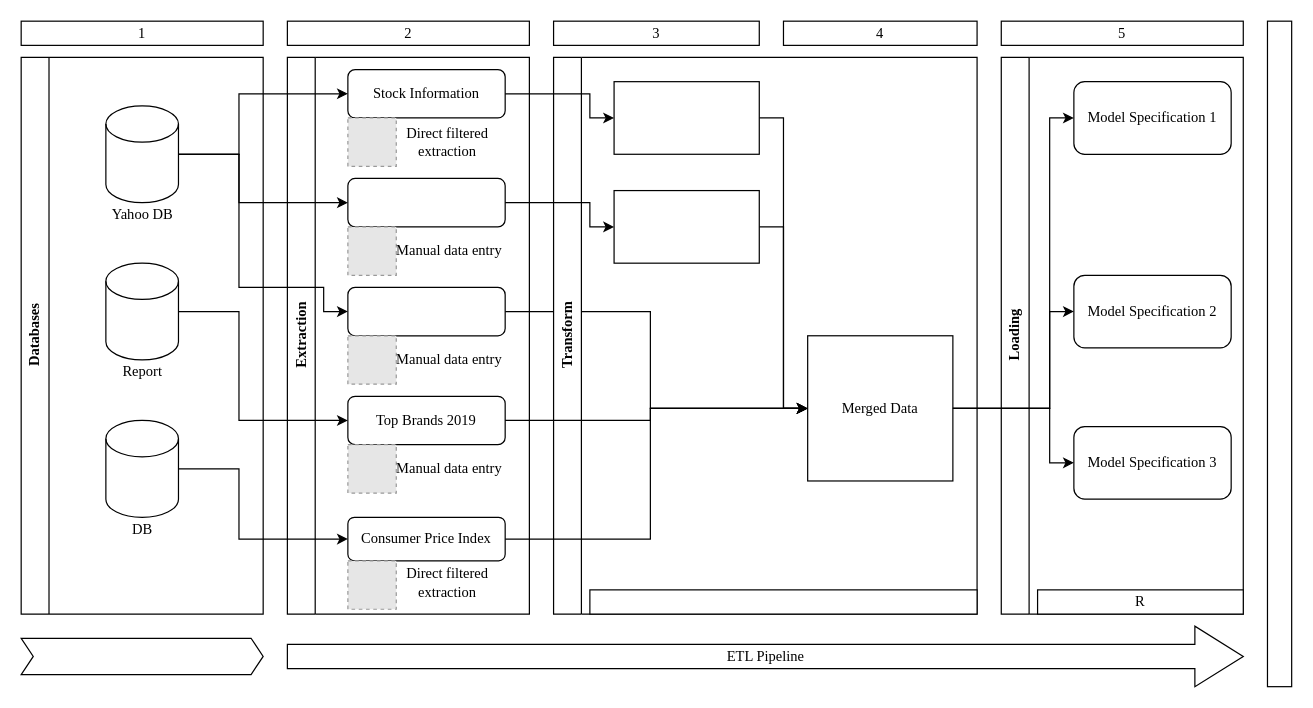
Some shapes in this 1313 by 708 pixel diagram are drawn without their labels. Grey dashed boxes stand in for pictures. Each missing label, with the centre of its shape:
EBIT & TR: point (426, 311)
Federal Statistical Office: point (141, 468)
Kantar BrandZ: point (141, 311)
Python: point (783, 601)
Sector & Industry: point (426, 202)
Sectors aggregated: point (686, 226)
Sources: point (141, 656)
Time aggregation (daily to monthly): point (686, 117)
Yahoo Finance: point (141, 154)
